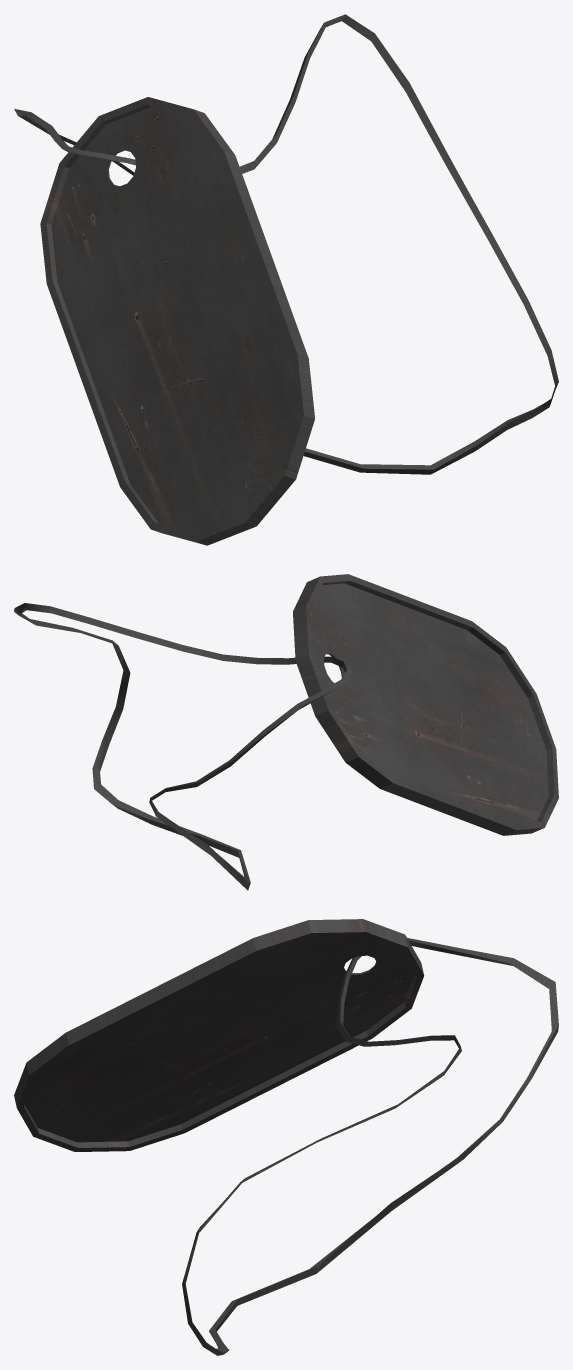
The model's file is SM_Hotspot_Tag.fbx.
The picture shows the model from 3 angles, top to bottom: view 1: azimuth 30°, elevation 25°; view 2: azimuth 150°, elevation 25°; view 3: azimuth 270°, elevation 25°; orthographic projection. The views are drawn at different scales.
Visible parts, largest first — view 1: Plane001; view 2: Plane001; view 3: Plane001.
Part boxes in pixels (<box>): Plane001: <box>14,14,558,545</box>; Plane001: <box>14,574,558,890</box>; Plane001: <box>14,919,558,1355</box>.
Bounding box in the file's own units: 166 × 132 × 194.
